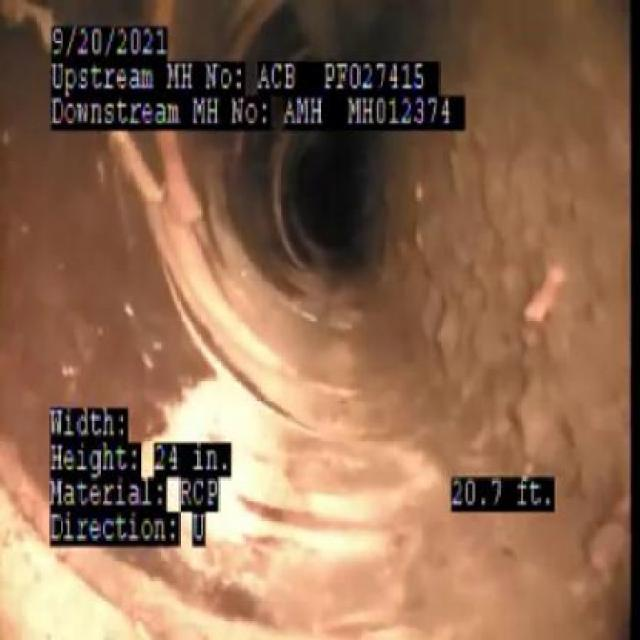Buckling: (106, 132, 223, 346)
